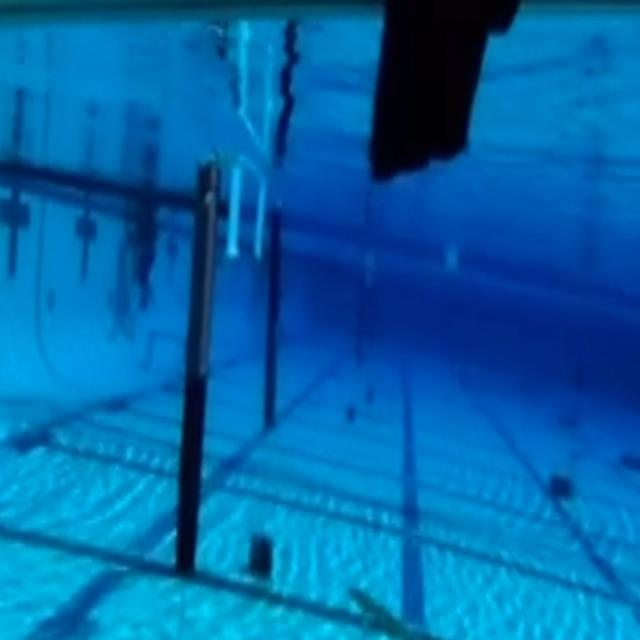Gate: (189, 158, 294, 568)
